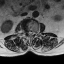CCS_normal: (29, 29, 31, 37)
LFS_normal: (33, 29, 35, 36)
LLS_normal: (31, 29, 33, 36)
RFS_stenosis: (25, 29, 27, 35)
RLS_normal: (27, 29, 29, 36)
